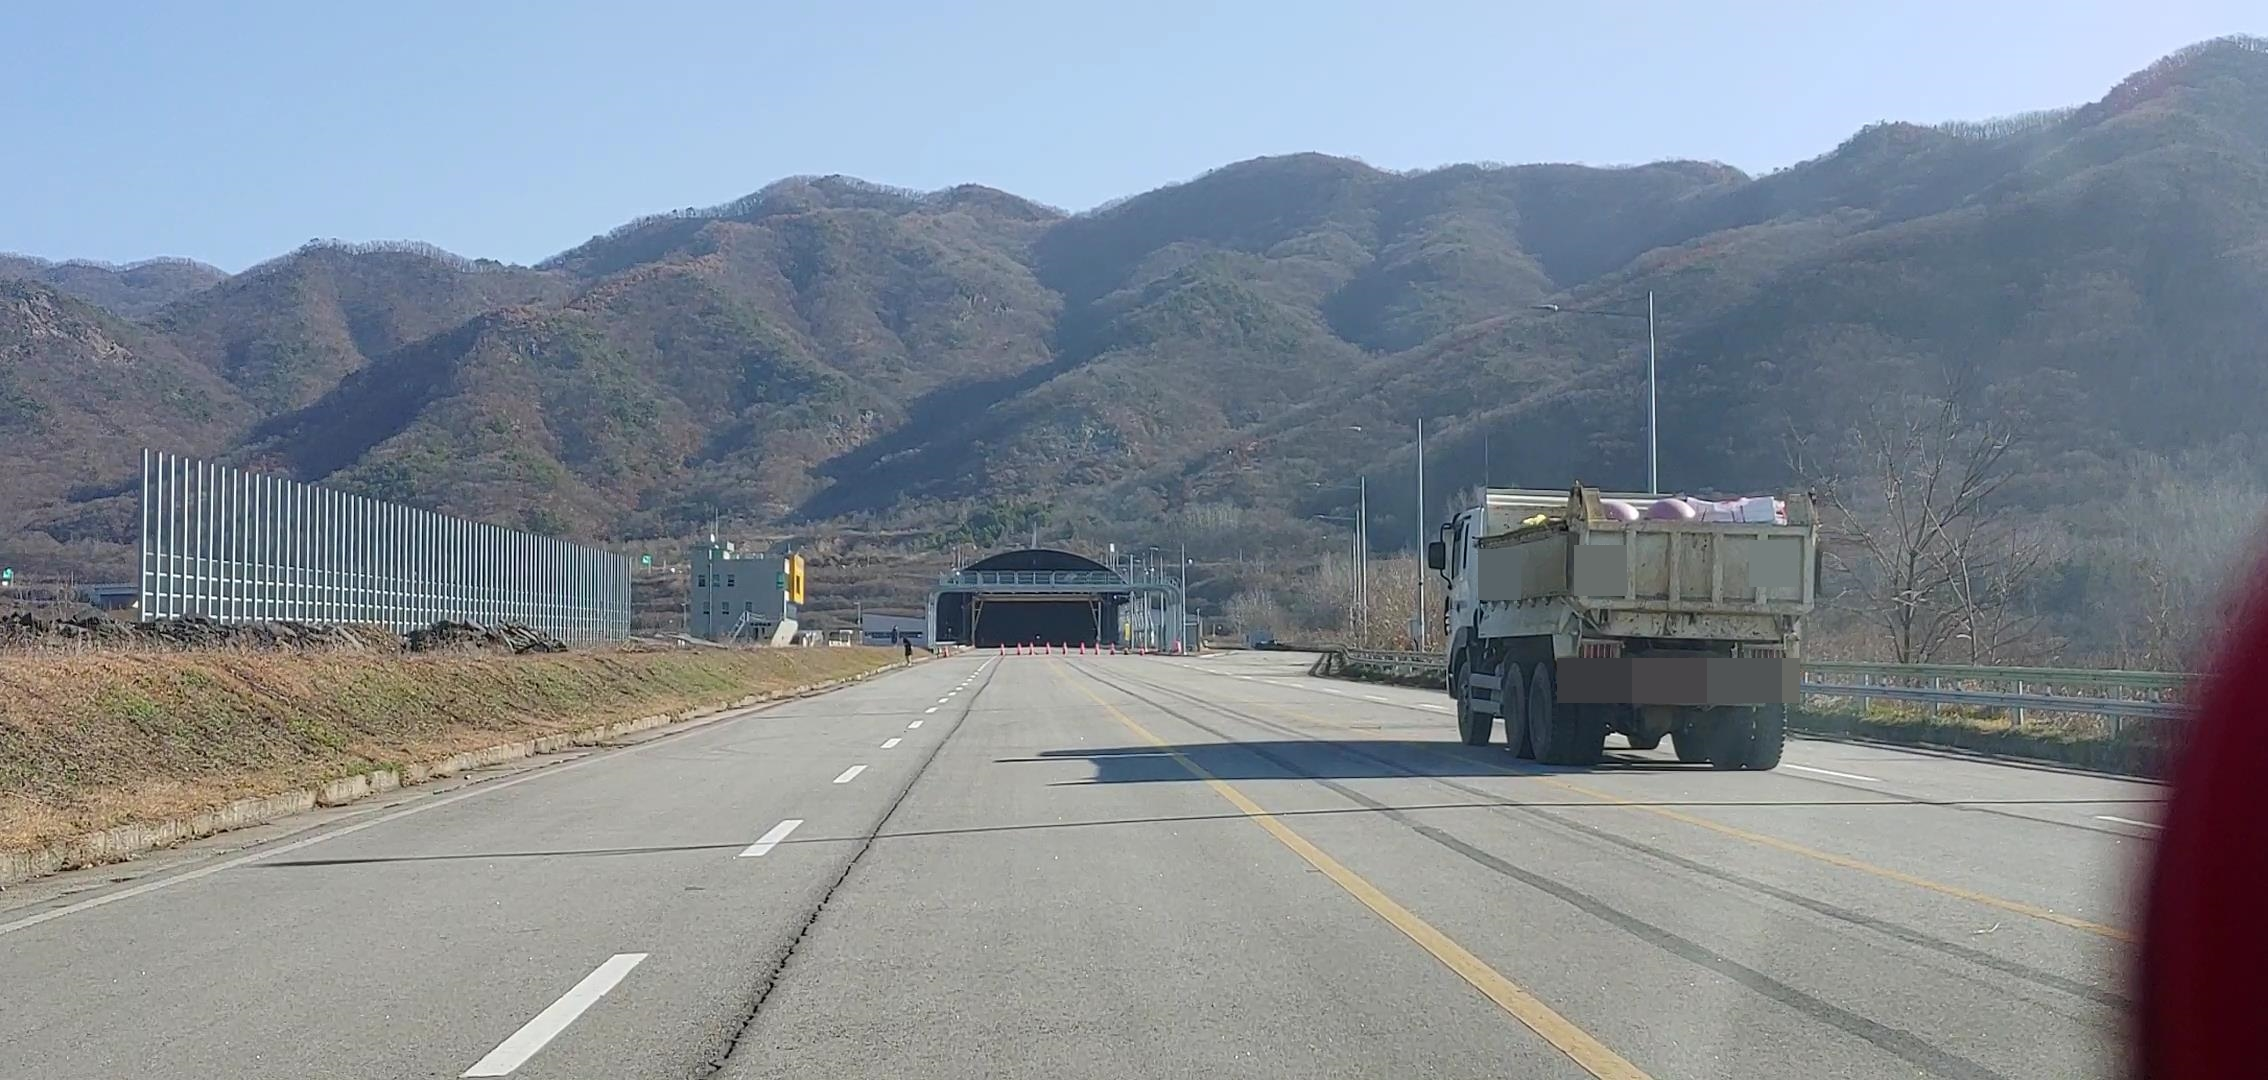불법차량: (1427, 482, 1824, 767)
